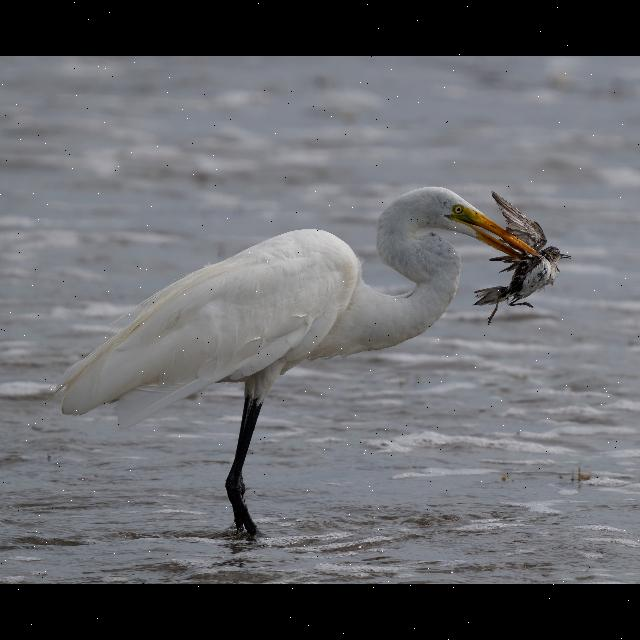egret: (52, 172, 582, 552)
